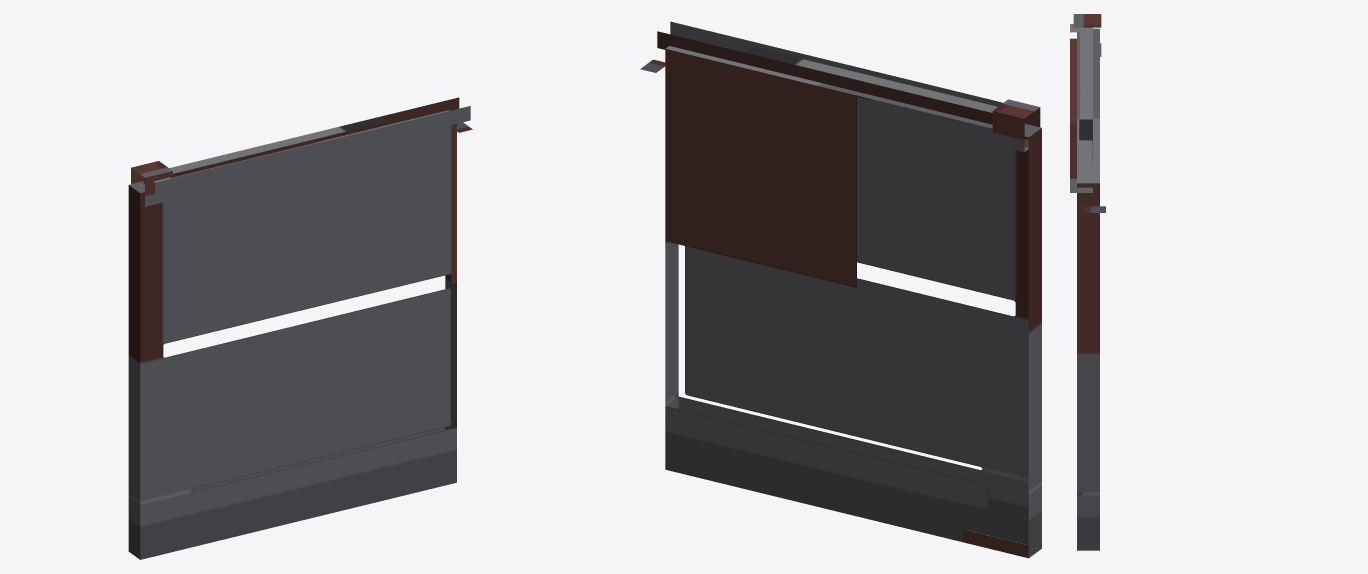
Rendered from section-0.obj.
The picture shows the model from 3 angles, left to right: view 1: azimuth 30°, elevation 25°; view 2: azimuth 150°, elevation 25°; view 3: azimuth 270°, elevation 25°; orthographic projection. The views are drawn at different scales.
Bounding box in the file's own units: 0.9214 × 0.9906 × 0.665.
